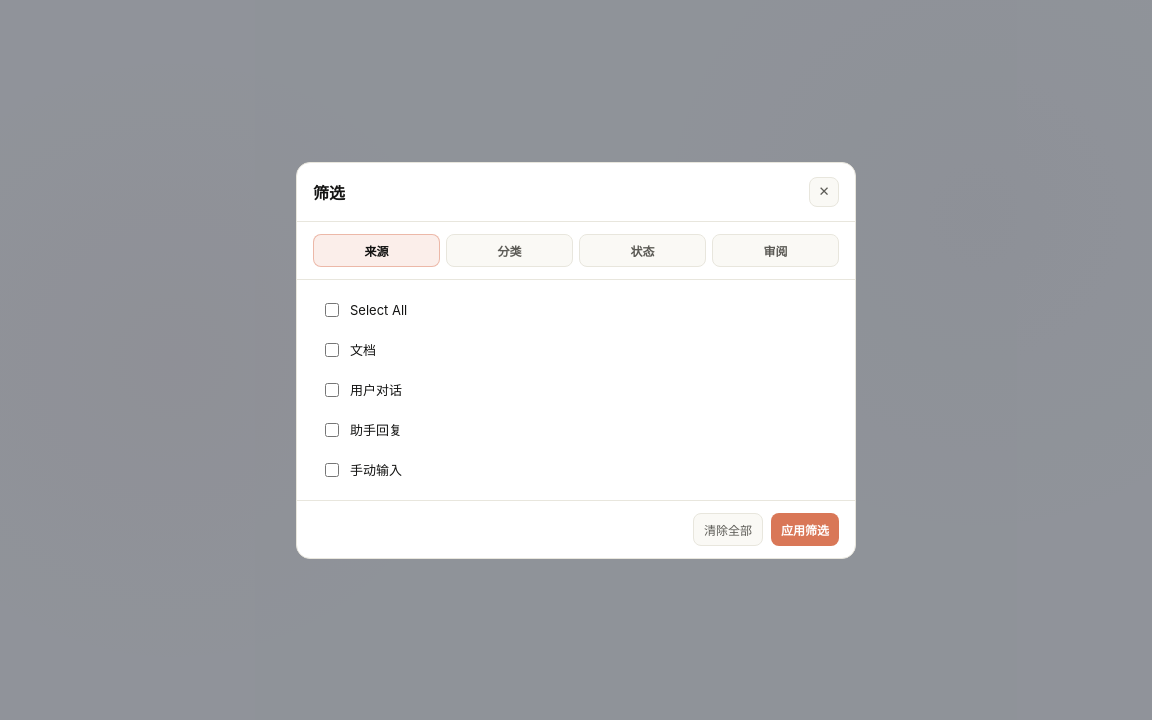
Test case: FilterDialog › shows loading hint in category tab
The image size is (1152, 720).
Click the tab "分类": (510, 250) [446, 234, 573, 266]
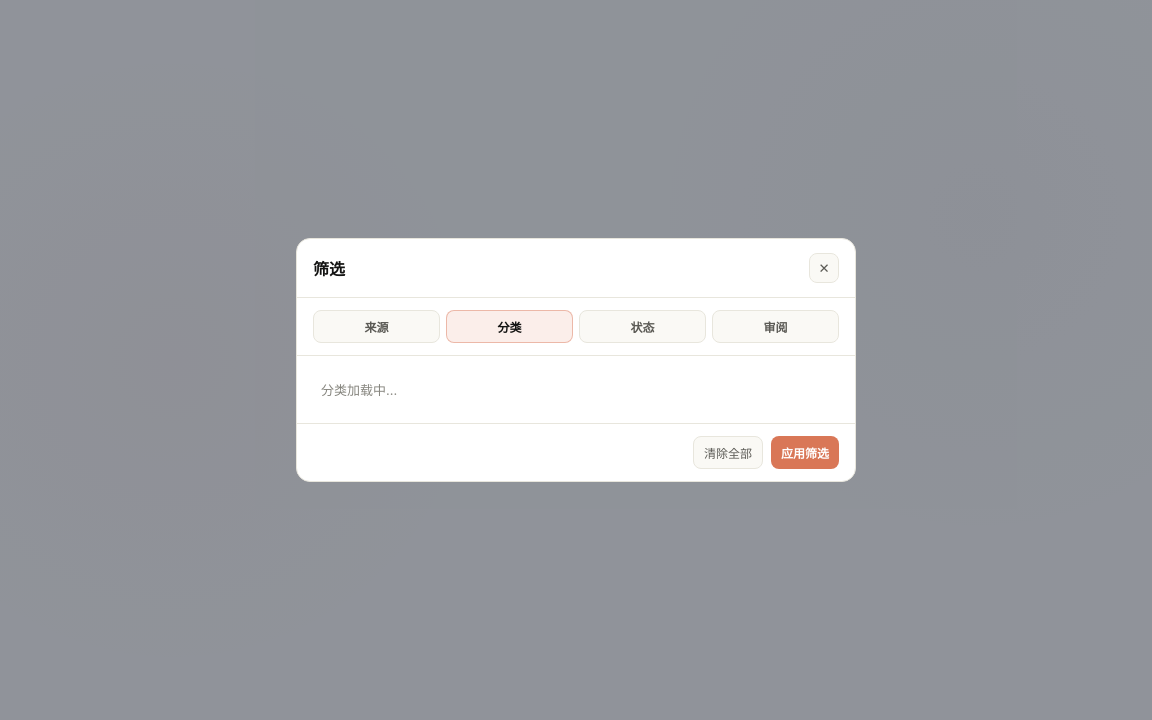
Check: the text "分类加载中..." is shown, box [321, 382, 397, 398]
